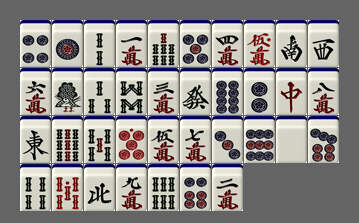0m: (244, 20, 275, 67)
0p: (116, 116, 147, 163)
0s: (52, 164, 83, 211)
1m: (116, 20, 147, 67)
1p: (52, 20, 83, 67)
1s: (52, 68, 83, 115)
1z: (20, 116, 51, 163)
2m: (212, 164, 243, 211)
2p: (244, 68, 275, 115)
2s: (84, 20, 115, 67)
2z: (276, 20, 307, 67)
3m: (148, 68, 179, 115)
3p: (212, 116, 243, 163)
3s: (84, 68, 115, 115)
3z: (308, 20, 339, 67)
4m: (212, 20, 243, 67)
4p: (20, 20, 51, 67)
4s: (20, 164, 51, 211)
4z: (84, 164, 115, 211)
5m: (148, 116, 179, 163)
5p: (180, 20, 211, 67)
5s: (84, 116, 115, 163)
5z: (276, 116, 307, 163)
6m: (20, 68, 51, 115)
6p: (180, 164, 211, 211)
6s: (148, 164, 179, 211)
6z: (180, 68, 211, 115)
7m: (180, 116, 211, 163)
7p: (308, 116, 339, 163)
7s: (148, 20, 179, 67)
7z: (276, 68, 307, 115)
8m: (308, 68, 339, 115)
8p: (212, 68, 243, 115)
8s: (116, 68, 147, 115)
9m: (116, 164, 147, 211)
9p: (244, 116, 275, 163)
9s: (52, 116, 83, 163)
